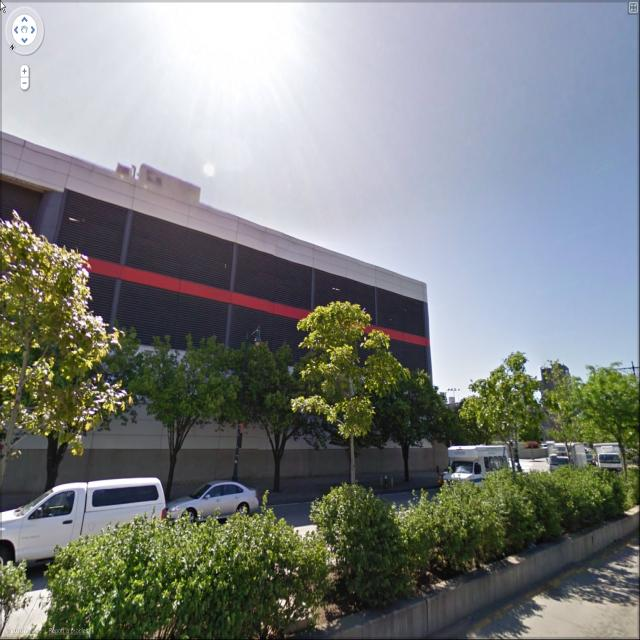b_2: (1, 126, 447, 434)
